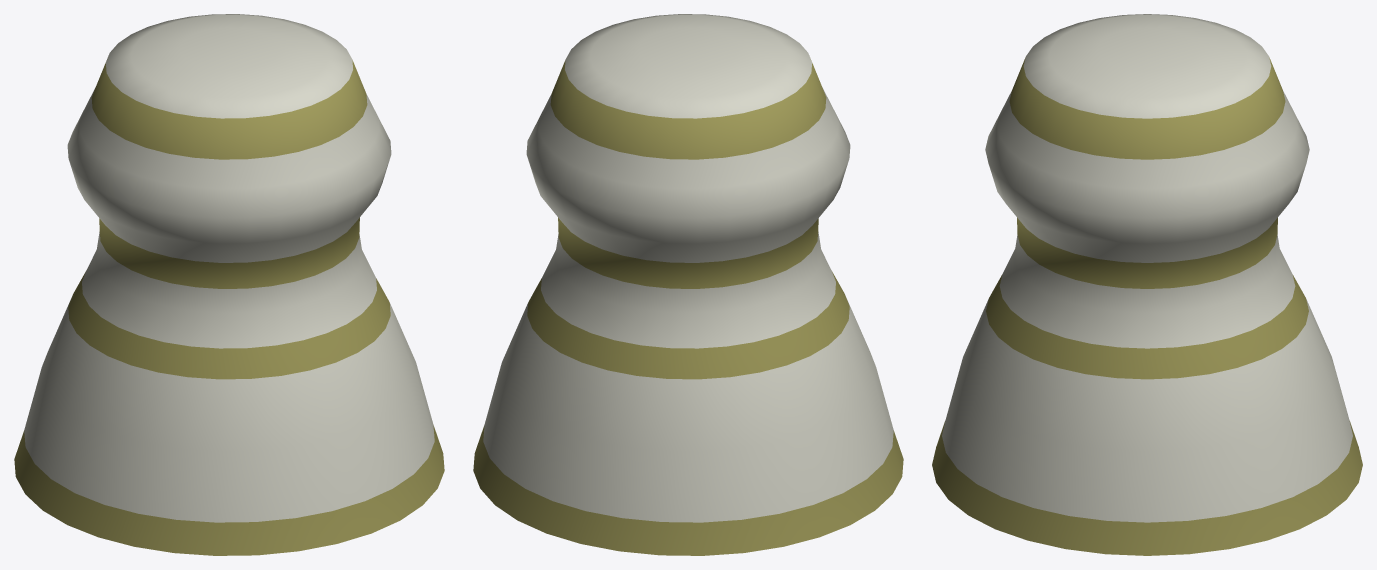
File: body.gltf
3 renders of one model, left to right at view 1: azimuth 30°, elevation 25°; view 2: azimuth 150°, elevation 25°; view 3: azimuth 270°, elevation 25°, orthographic.
Parts seen in each view (by area): view 1: Sphere.056; view 2: Sphere.056; view 3: Sphere.056.
Part boxes in pixels (x1,y1,x2,y2): Sphere.056: (14,14,444,555); Sphere.056: (473,14,903,555); Sphere.056: (932,14,1362,555).
Size of the model in its own units: 0.3694 by 0.3939 by 0.3694.
2 materials, 2 textured.
